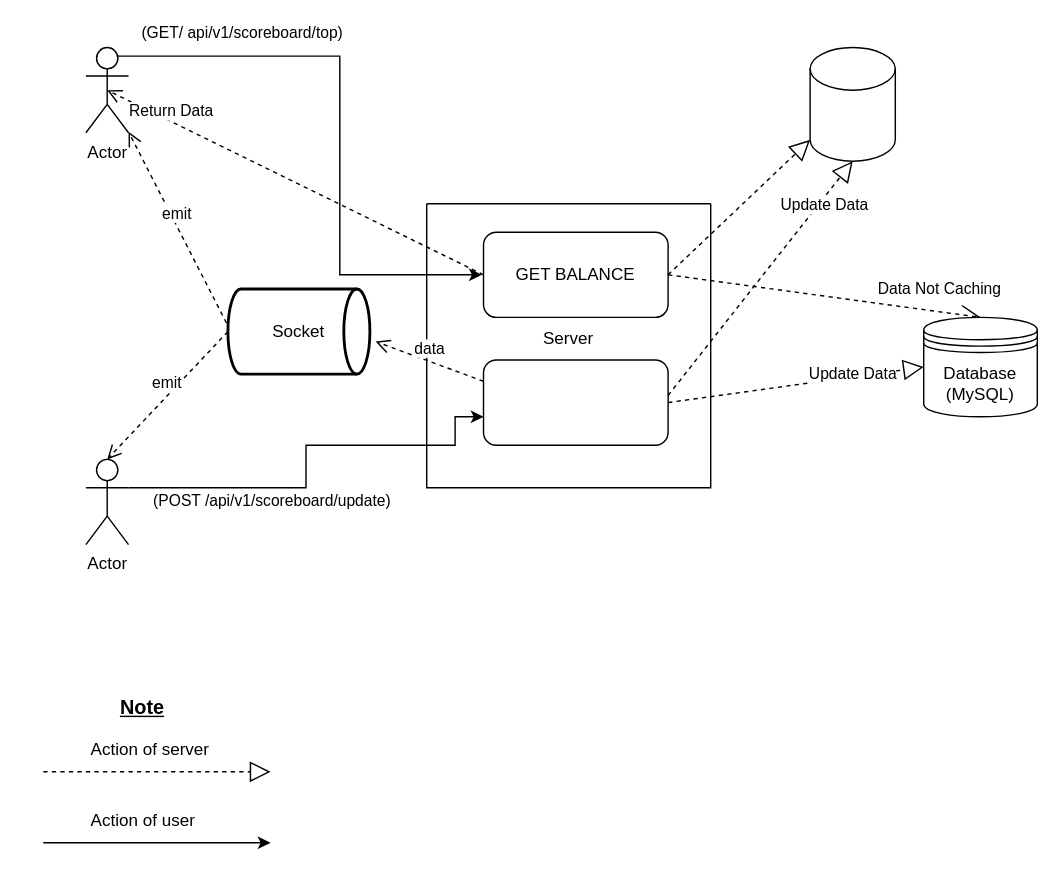
Image size: 1062x880. Some labels were removed from this diagram. Each missing label, with the box of its shape:
Caching Server (Redis): (809, 46, 895, 161)
UPDATE: (482, 359, 668, 445)
